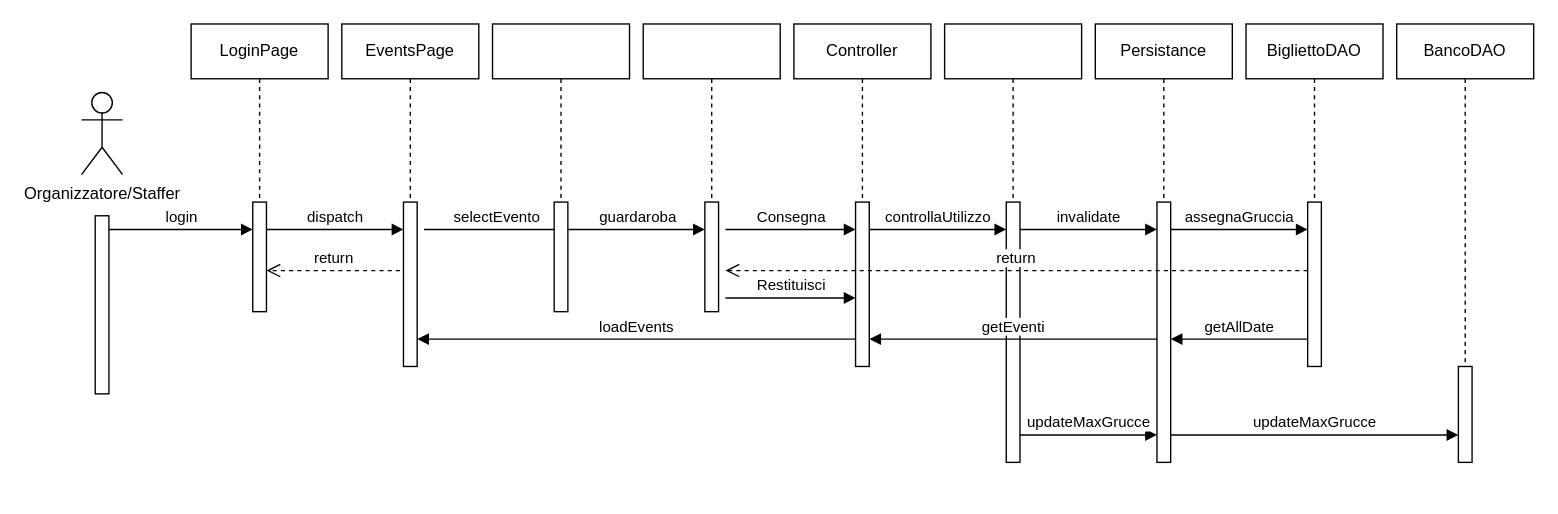
The diagram is 1558 pixels wide and 514 high, and some of its shapes have lost their labels. The centre of each missing label's shape, as x and y in pixels:
CloackroomPage: point 711,167
MainPage: point 560,167
Model: point 1012,167
